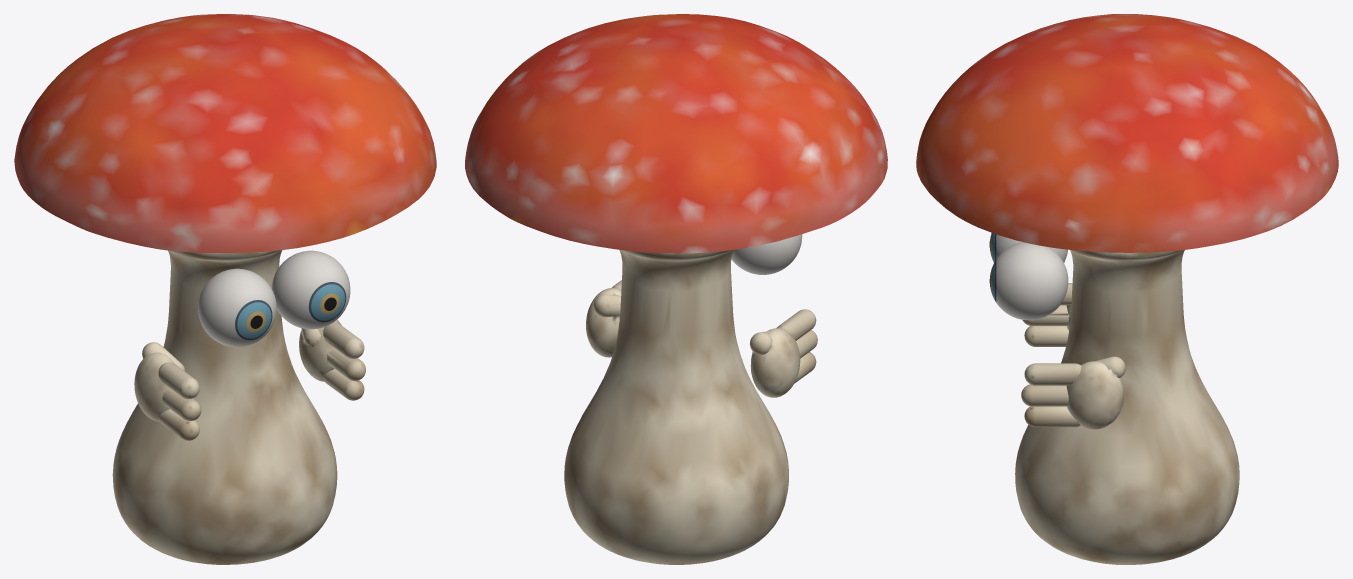
File: amanita-scout.glb
3 views of the same model, side by side, from view 1: azimuth 30°, elevation 25°; view 2: azimuth 150°, elevation 25°; view 3: azimuth 270°, elevation 25° (orthographic).
Parts seen in each view (by area): view 1: amanita_scout, eye, hand; view 2: amanita_scout, hand, eye; view 3: amanita_scout, hand, eye.
Part boxes in pixels (bbox=[...]): amanita_scout: bbox=[14, 14, 436, 564]; eye: bbox=[198, 250, 350, 347]; hand: bbox=[134, 319, 365, 440]; amanita_scout: bbox=[465, 14, 887, 564]; hand: bbox=[586, 280, 817, 397]; eye: bbox=[731, 234, 802, 274]; amanita_scout: bbox=[916, 14, 1338, 564]; hand: bbox=[1021, 283, 1125, 429]; eye: bbox=[989, 233, 1068, 320].
Size of the model in its own units: 1.29 by 1.68 by 1.29.
